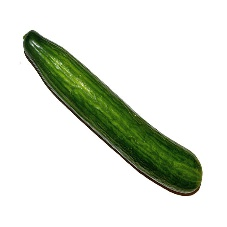cucumber: (21, 29, 202, 198)
